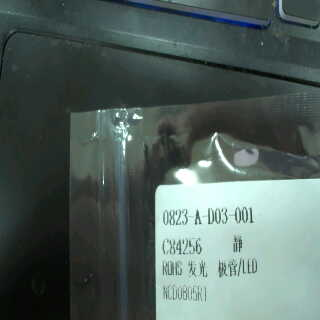LED: (182, 255, 266, 280)
